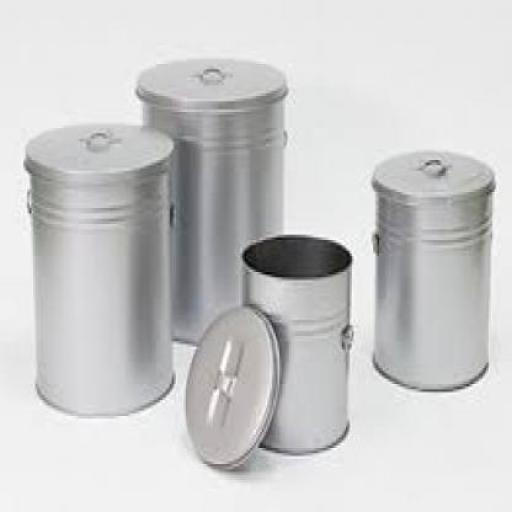metal: (22, 120, 174, 410), (137, 58, 285, 344), (370, 149, 492, 386), (241, 232, 350, 451), (184, 304, 280, 466)
